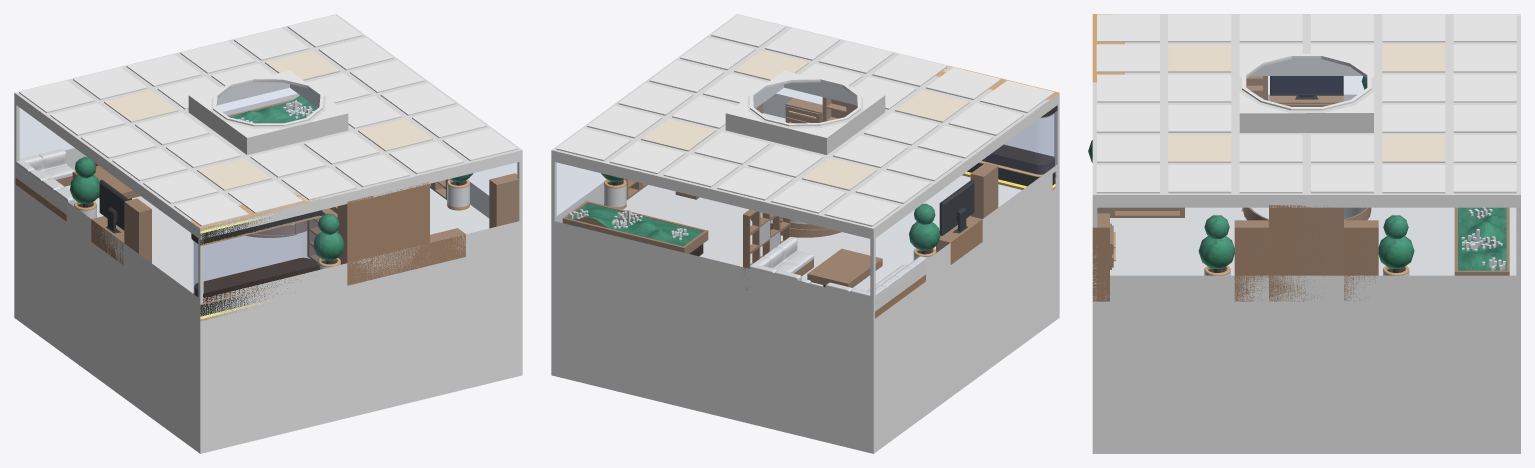
The model's file is AppGameRoom (3).fbx.
3 views of the same model, side by side, from view 1: azimuth 30°, elevation 25°; view 2: azimuth 150°, elevation 25°; view 3: azimuth 270°, elevation 25° (orthographic). The views are drawn at different scales.
Parts seen in each view (by area): view 1: Cube, Plane, Cube.002, Circle.006, Circle.005, Cube.013, Cube.007, Circle.004, Cube.003, Cube.019, Cube.016, Icosphere.003 (+7 smaller); view 2: Plane, Cube, Cube.016, Circle.006, Circle.005, Cube.013, Cube.014, Cube.015, Cube.012, Plane.001, Cube.019, Cube.018 (+4 smaller); view 3: Plane, Cube, Cube.009, Cube.016, Cube.010, Cube.011, Plane.001, Cube.003, Icosphere.004, Icosphere.005, Cube.005, Cube.018 (+1 smaller).
Part boxes in pixels (bbox=[...]): Cube: bbox=[14, 170, 522, 453]; Plane: bbox=[14, 14, 522, 321]; Cube.002: bbox=[373, 182, 429, 279]; Circle.006: bbox=[194, 218, 319, 296]; Circle.005: bbox=[193, 257, 319, 321]; Cube.013: bbox=[15, 149, 76, 221]; Cube.007: bbox=[340, 196, 373, 285]; Circle.004: bbox=[191, 192, 322, 246]; Cube.003: bbox=[489, 173, 519, 228]; Cube.019: bbox=[124, 198, 151, 263]; Cube.016: bbox=[227, 95, 317, 123]; Icosphere.003: bbox=[313, 213, 344, 264]; Plane: bbox=[551, 14, 1059, 321]; Cube: bbox=[551, 113, 1059, 453]; Cube.016: bbox=[562, 201, 708, 256]; Circle.006: bbox=[982, 114, 1054, 174]; Circle.005: bbox=[962, 144, 1056, 189]; Cube.013: bbox=[825, 256, 926, 318]; Cube.014: bbox=[743, 209, 790, 289]; Cube.015: bbox=[807, 248, 882, 287]; Cube.012: bbox=[749, 237, 813, 283]; Plane.001: bbox=[939, 179, 974, 235]; Cube.019: bbox=[970, 163, 998, 218]; Cube.018: bbox=[936, 216, 982, 264]; Plane: bbox=[1092, 14, 1520, 301]; Cube: bbox=[1092, 207, 1520, 453]; Cube.009: bbox=[1269, 205, 1343, 301]; Cube.016: bbox=[1454, 207, 1509, 275]; Cube.010: bbox=[1234, 220, 1268, 301]; Cube.011: bbox=[1344, 220, 1378, 301]; Plane.001: bbox=[1270, 76, 1343, 99]; Cube.003: bbox=[1092, 213, 1109, 301]; Icosphere.004: bbox=[1198, 215, 1234, 272]; Icosphere.005: bbox=[1378, 215, 1414, 272]; Cube.005: bbox=[1110, 207, 1184, 217]; Cube.018: bbox=[1270, 95, 1343, 106].
Size of the model in its own units: 3036 by 2161 by 3006.
Materials: 18 (2 with a texture image).
